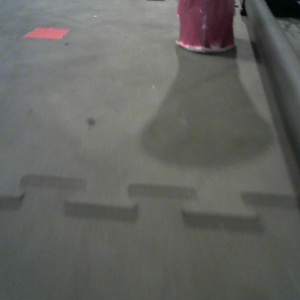right: (175, 1, 237, 53)
